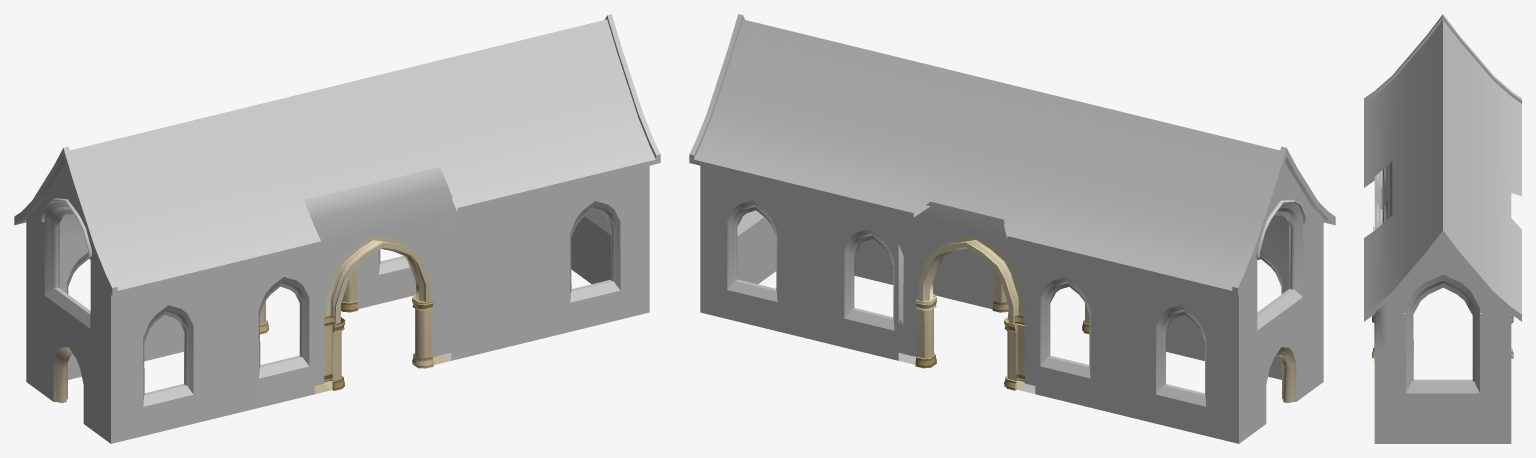
The model's file is BlackfriarsChurchWallsOnly.fbx.
3 renders of one model, left to right at view 1: azimuth 30°, elevation 25°; view 2: azimuth 150°, elevation 25°; view 3: azimuth 270°, elevation 25°, orthographic. The views are drawn at different scales.
Parts seen in each view (by area): view 1: ChurchWalls; view 2: ChurchWalls; view 3: ChurchWalls.
Part boxes in pixels (left/top/right/bottom): ChurchWalls: left=14, top=14, right=660, bottom=443; ChurchWalls: left=689, top=14, right=1335, bottom=443; ChurchWalls: left=1364, top=14, right=1521, bottom=443.
Size of the model in its own units: 3391 by 1047 by 1576.
